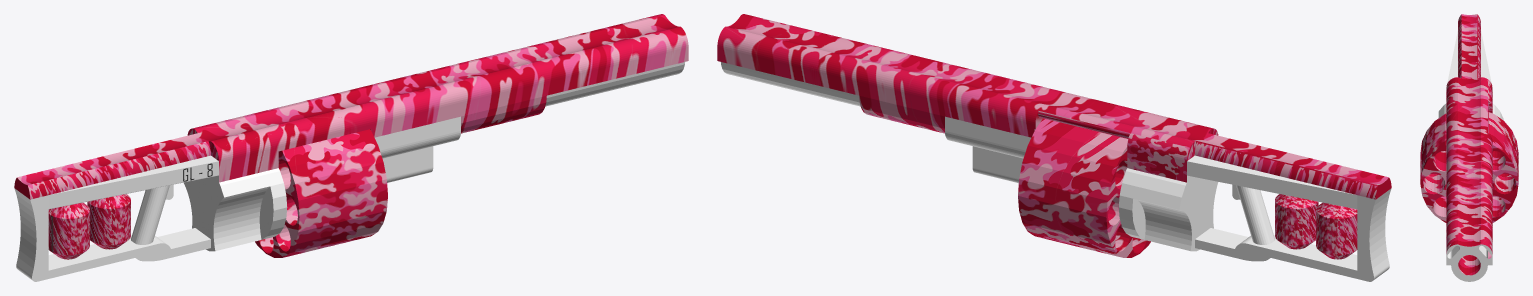
The model's file is Lanzagranadas_pinkcamo.FBX.
3 renders of one model, left to right at view 1: azimuth 30°, elevation 25°; view 2: azimuth 150°, elevation 25°; view 3: azimuth 270°, elevation 25°, orthographic. The views are drawn at different scales.
Parts seen in each view (by area): view 1: Skin, Group1, Cargador, Etiqueta; view 2: Skin, Group1, Cargador; view 3: Skin, Cargador, Group1.
Boxes of the visible parts, x1,y1,x2,y2 form: Skin: [14, 14, 688, 259]; Group1: [14, 62, 684, 281]; Cargador: [255, 129, 387, 257]; Etiqueta: [48, 161, 218, 209]; Skin: [717, 14, 1391, 259]; Group1: [721, 62, 1391, 281]; Cargador: [1018, 118, 1150, 257]; Skin: [1446, 14, 1492, 275]; Cargador: [1420, 112, 1518, 222]; Group1: [1438, 31, 1503, 281].
Size of the model in its own units: 8.05 by 1.58 by 1.44.
Materials: 3 (2 with a texture image).
